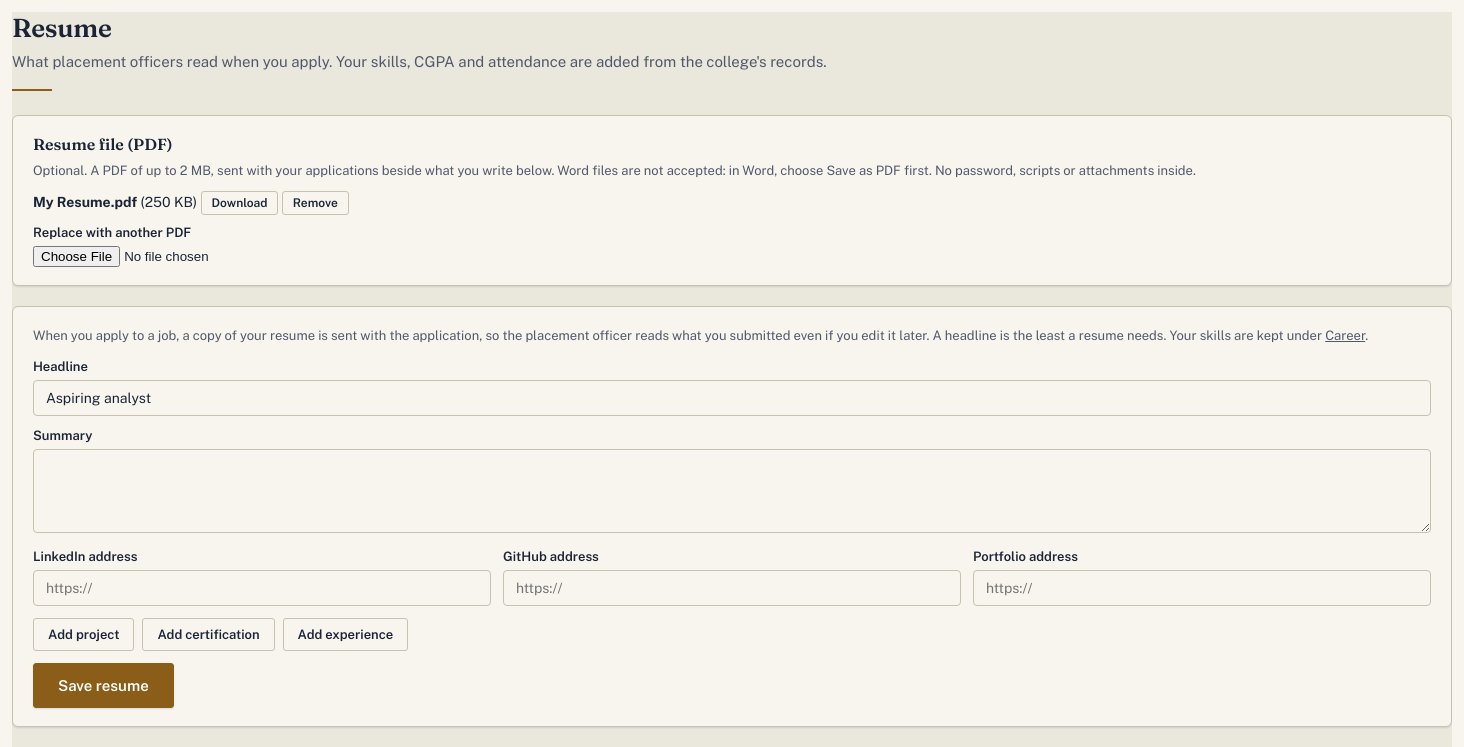
Test: the student's resume file › shows the file already saved, downloads it with the sign-in token, and removes it on confirmation
Expected: the file field labelled "Replace with another PDF" is shown, [33, 246, 286, 267]
Click the button "Download".
click(239, 203)  # box [200, 191, 278, 215]
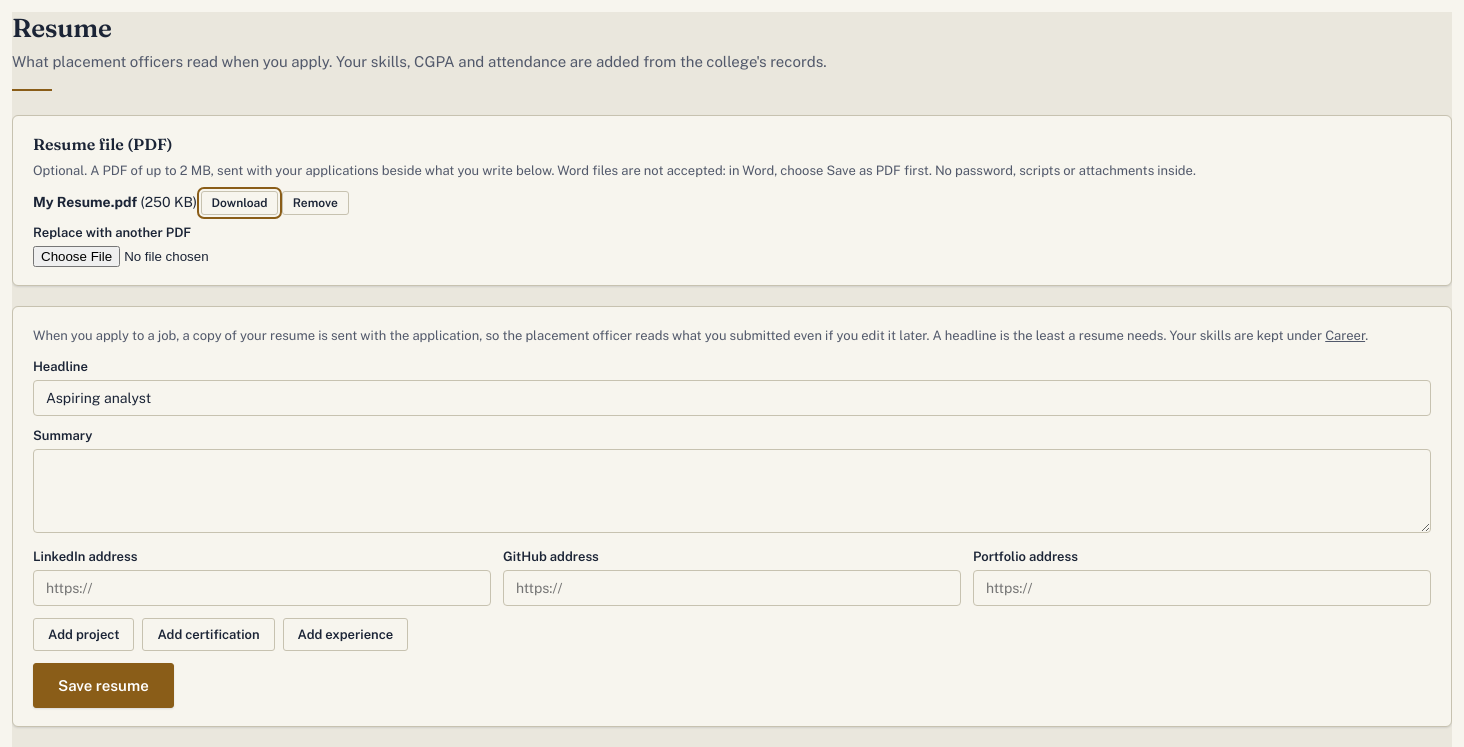
Click the button "Remove".
click(315, 203)  # box [282, 191, 349, 215]
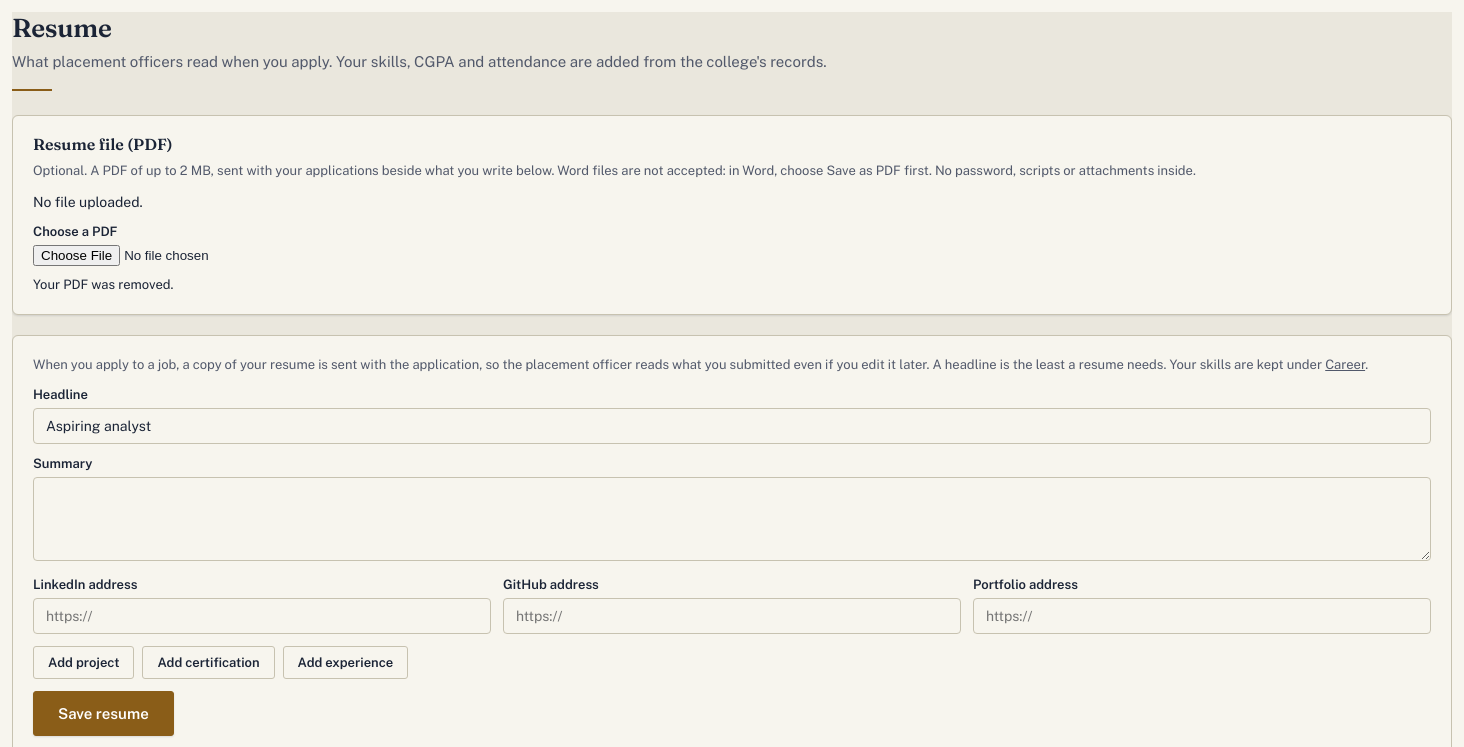
Expected: the text "Your PDF was removed." is shown, [33, 277, 174, 292]
